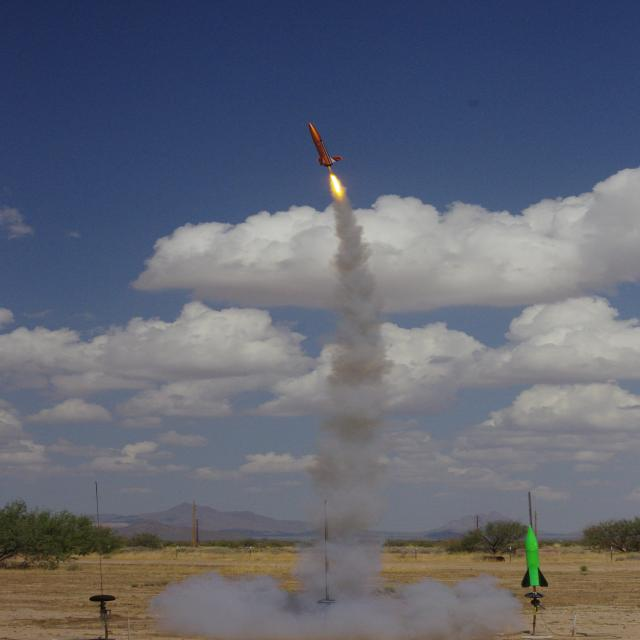Rocket: (521, 524, 548, 588), (308, 122, 343, 168)
